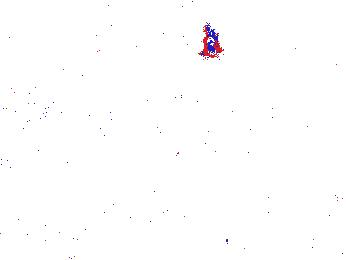X-ray fish: (94, 4, 121, 37)
red belly glassfish: (198, 27, 222, 58), (287, 39, 308, 64)
